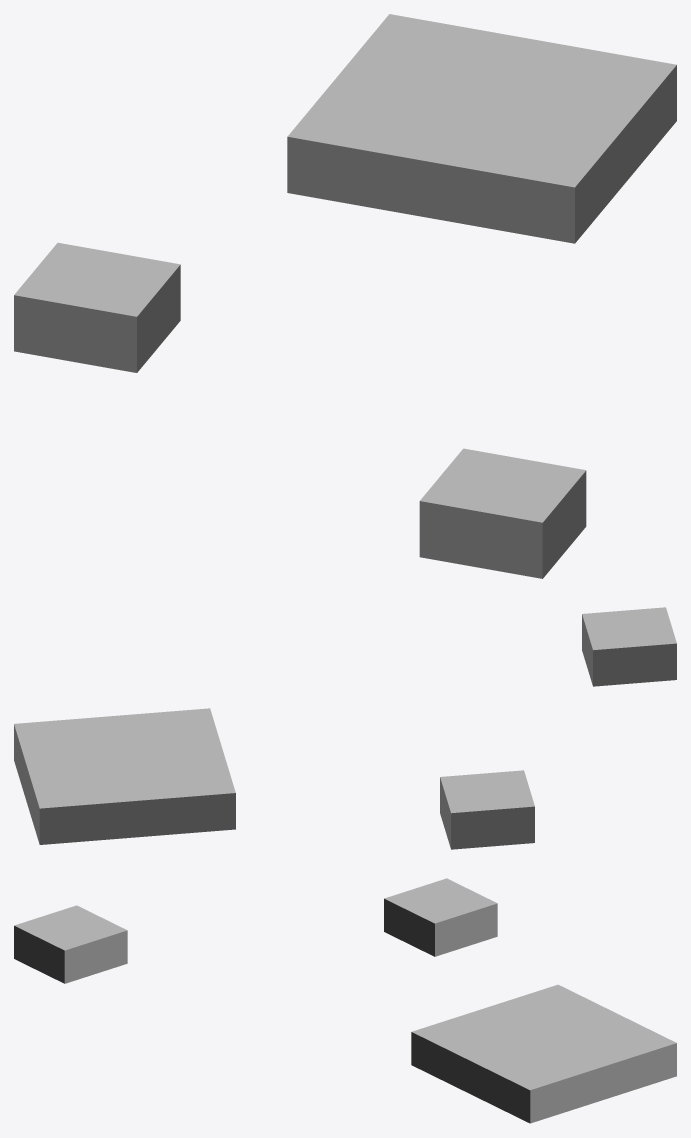
File: rubble_02.fbx
3 renders of one model, top to bottom at view 1: azimuth 30°, elevation 25°; view 2: azimuth 150°, elevation 25°; view 3: azimuth 270°, elevation 25°, orthographic. The views are drawn at different scales.
Parts seen in each view (by area): view 1: rubble_02; view 2: rubble_02; view 3: rubble_02.
Boxes of the visible parts, x1=… form: rubble_02: x1=14, y1=14, x2=676, y2=578; rubble_02: x1=14, y1=607, x2=676, y2=849; rubble_02: x1=14, y1=878, x2=676, y2=1123.
Size of the model in its own units: 140 by 10.27 by 185.
